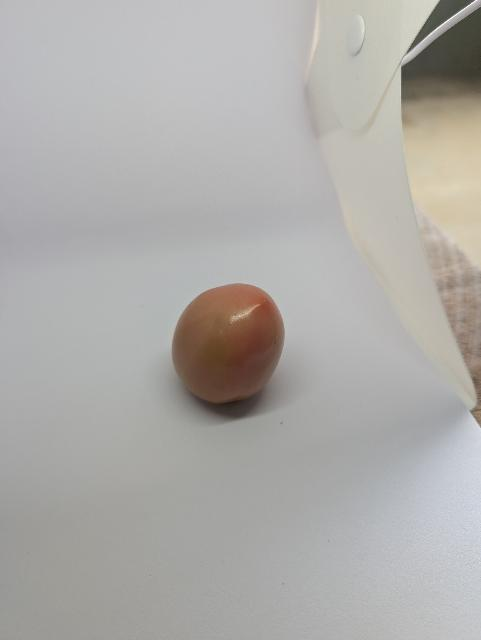red: (164, 275, 286, 407)
